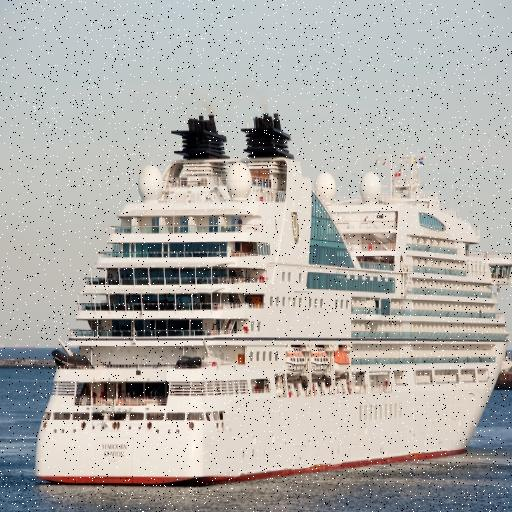cruises: (32, 111, 512, 495)
